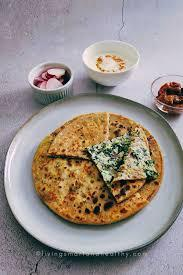paratha: (46, 112, 161, 220)
yogurt: (82, 44, 138, 80)
